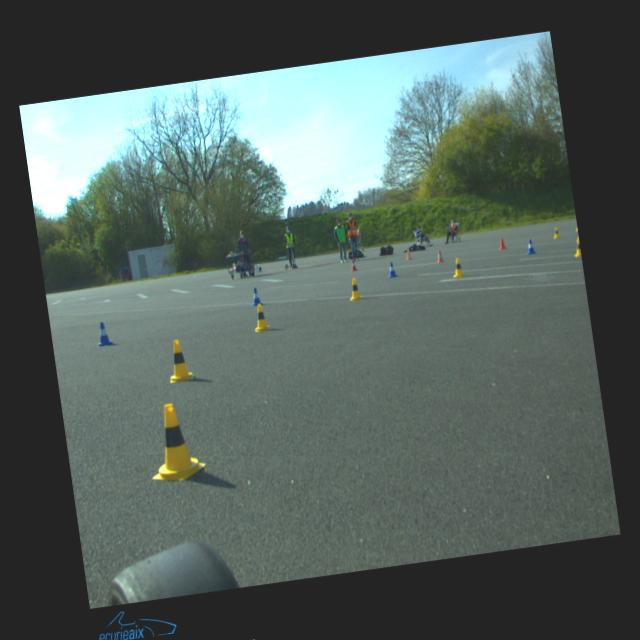blue_cone: (94, 321, 114, 347), (250, 287, 263, 306), (386, 261, 398, 278), (525, 238, 537, 254)
orange_cone: (436, 250, 446, 262), (498, 238, 507, 250), (350, 260, 358, 272)
unknown_cone: (405, 250, 412, 260)
yellow_cone: (142, 400, 208, 484), (166, 338, 194, 382), (252, 302, 271, 332), (347, 277, 363, 301), (450, 257, 465, 278), (572, 238, 582, 258), (552, 226, 560, 238), (574, 224, 578, 232)
